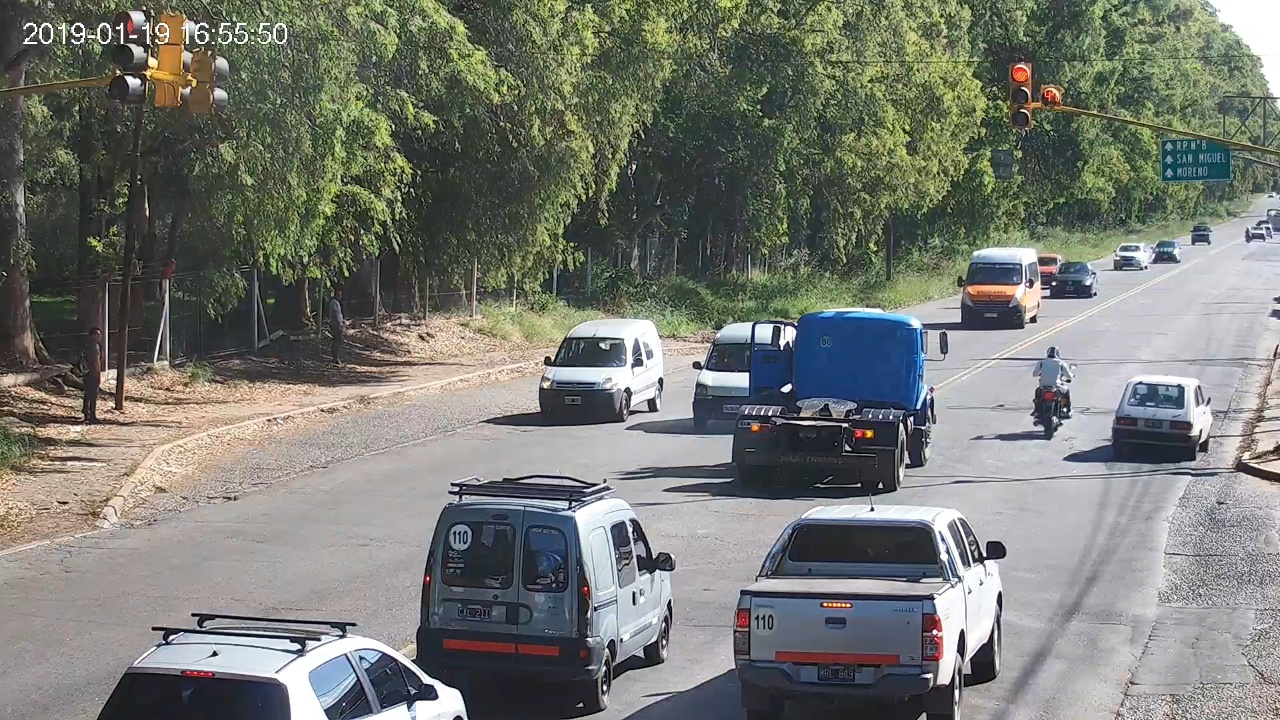car: (416, 474, 677, 711), (734, 505, 1007, 720), (1112, 375, 1213, 460)
front car: (539, 319, 663, 421)
motorcycle: (1030, 362, 1078, 439)
traffic light: (1009, 63, 1031, 128)
truck: (732, 310, 948, 493)
